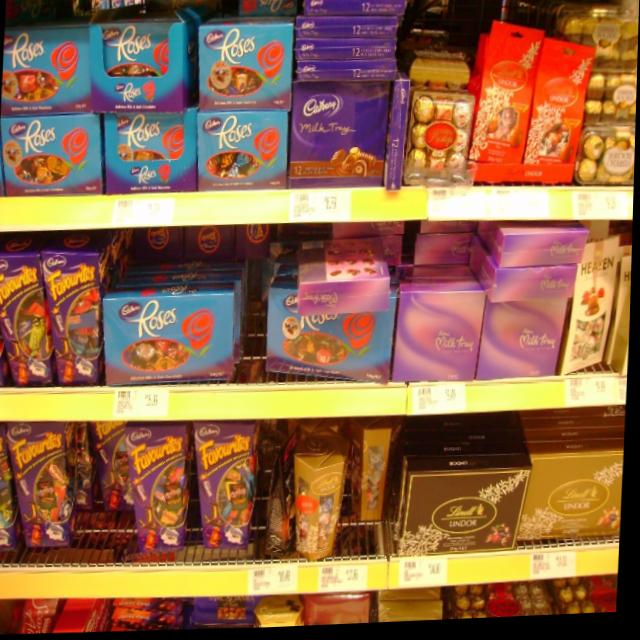q256: (95, 284, 242, 395), (264, 297, 399, 387), (0, 111, 106, 202), (100, 106, 198, 204), (1, 22, 100, 117), (99, 15, 189, 114), (198, 17, 293, 109), (194, 104, 292, 188)
